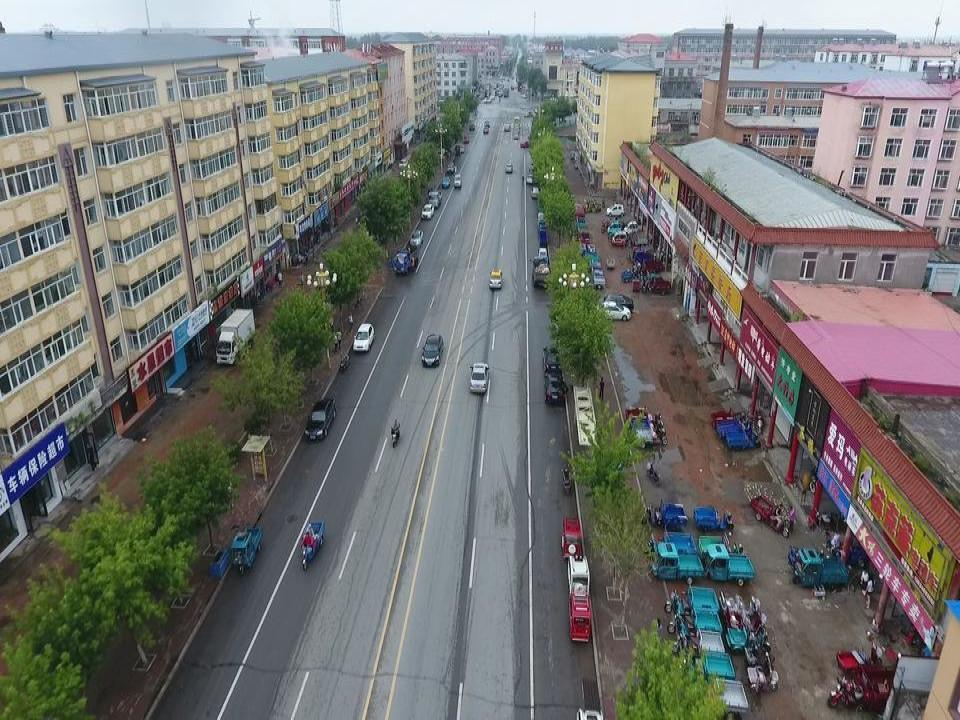bus: (513, 116, 520, 127)
car: (305, 397, 336, 440), (568, 592, 591, 643), (716, 414, 753, 439), (421, 332, 444, 367), (545, 373, 569, 403), (352, 322, 374, 354), (597, 293, 634, 312), (593, 303, 631, 321), (469, 362, 490, 394), (543, 344, 563, 373), (488, 268, 503, 288), (409, 228, 424, 247), (606, 203, 624, 217), (421, 204, 434, 220), (526, 173, 540, 184), (530, 187, 539, 197), (442, 177, 450, 188), (399, 159, 408, 168), (505, 163, 513, 173), (529, 161, 536, 171), (483, 96, 491, 103), (504, 124, 511, 132), (525, 111, 534, 117), (458, 144, 464, 153), (447, 163, 453, 172), (483, 126, 489, 134), (463, 134, 469, 142), (513, 131, 518, 140), (469, 123, 476, 129), (484, 120, 491, 125), (491, 93, 494, 99)
truck: (215, 308, 256, 367), (387, 246, 419, 274), (529, 257, 550, 291), (427, 189, 442, 208), (572, 201, 586, 220), (538, 221, 547, 247), (538, 248, 548, 263), (537, 207, 545, 225), (502, 87, 508, 97), (514, 126, 519, 134)
van: (454, 175, 462, 188)
